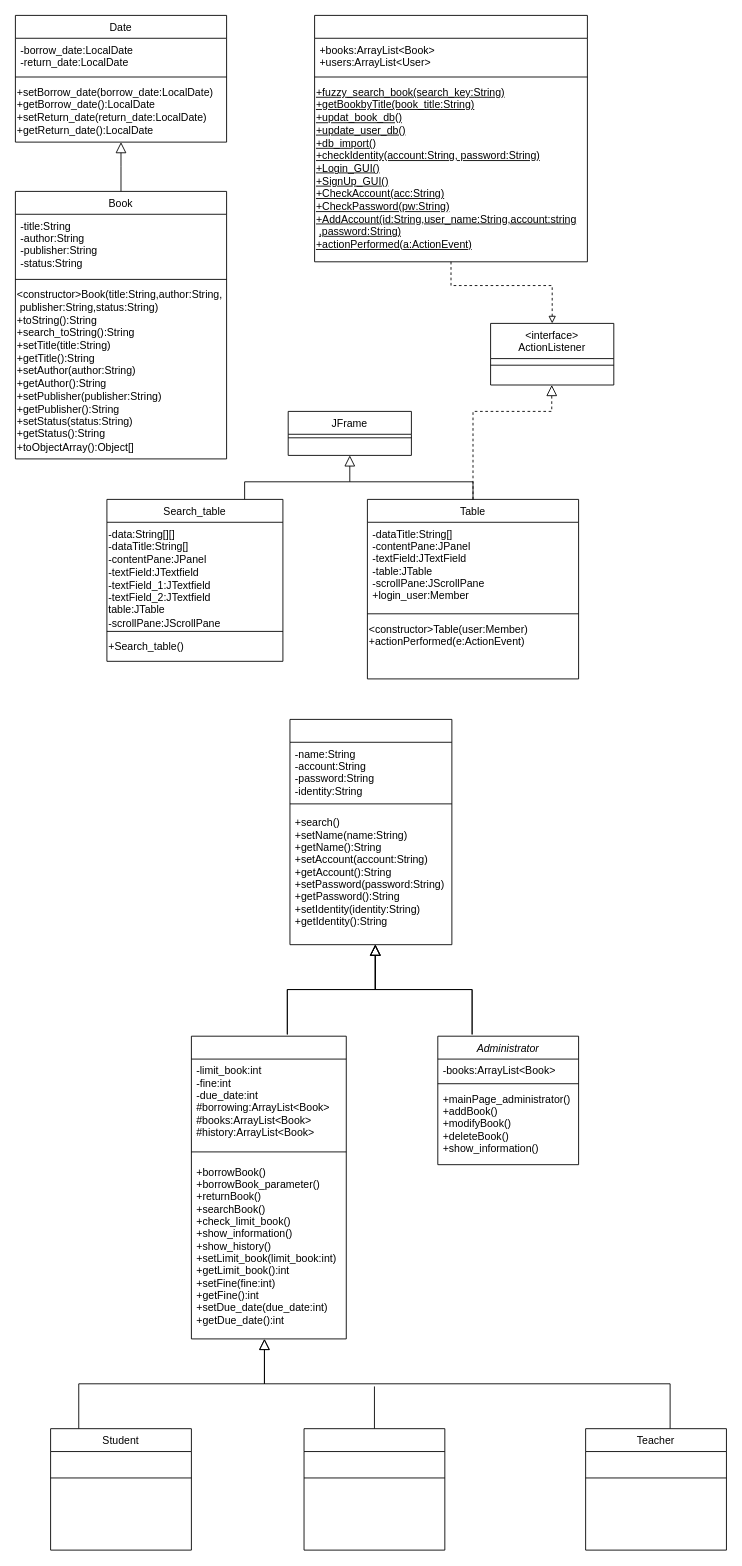
This 742x1566 diagram has some shape labels left out. The box of each missing label's shape, as (x1, y1, x2, y2) in pixels:
Library: (314, 15, 587, 262)
Member: (191, 1035, 346, 1339)
Staff: (303, 1428, 445, 1550)
User: (289, 719, 452, 945)
